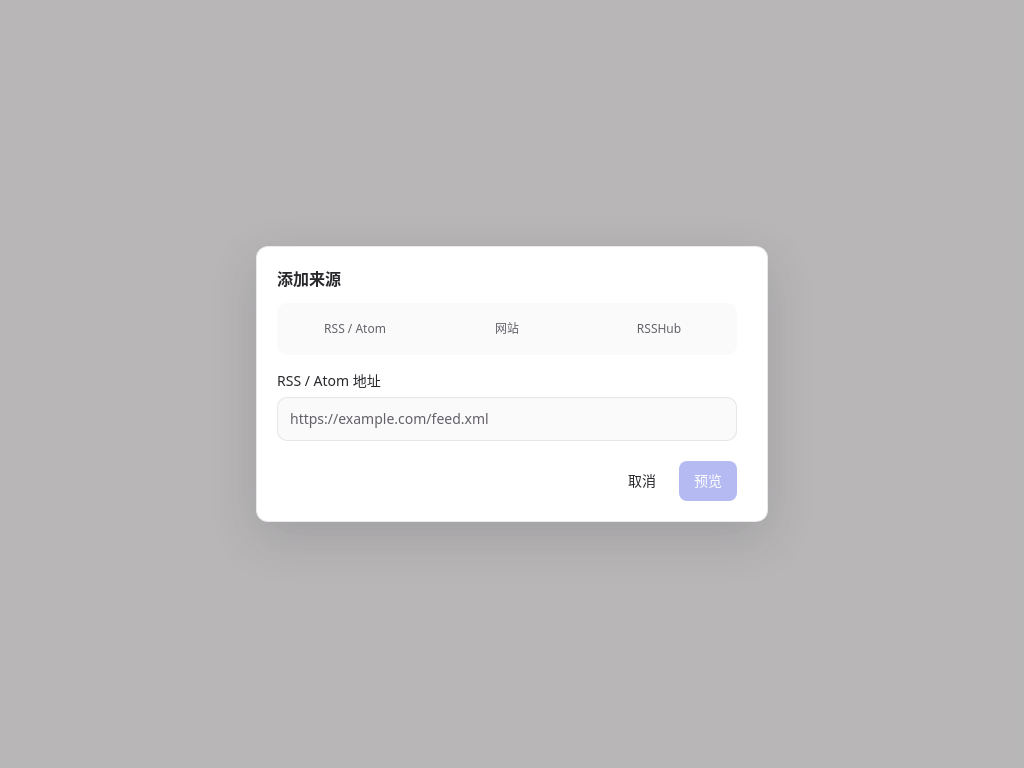
Test: AddSourceDialog — RSSHub › 路由目录加载并渲染标题/描述/路径模板
This screenshot has width=1024, height=768.
Click the tab "RSSHub" at (659, 329), box [585, 307, 733, 351]
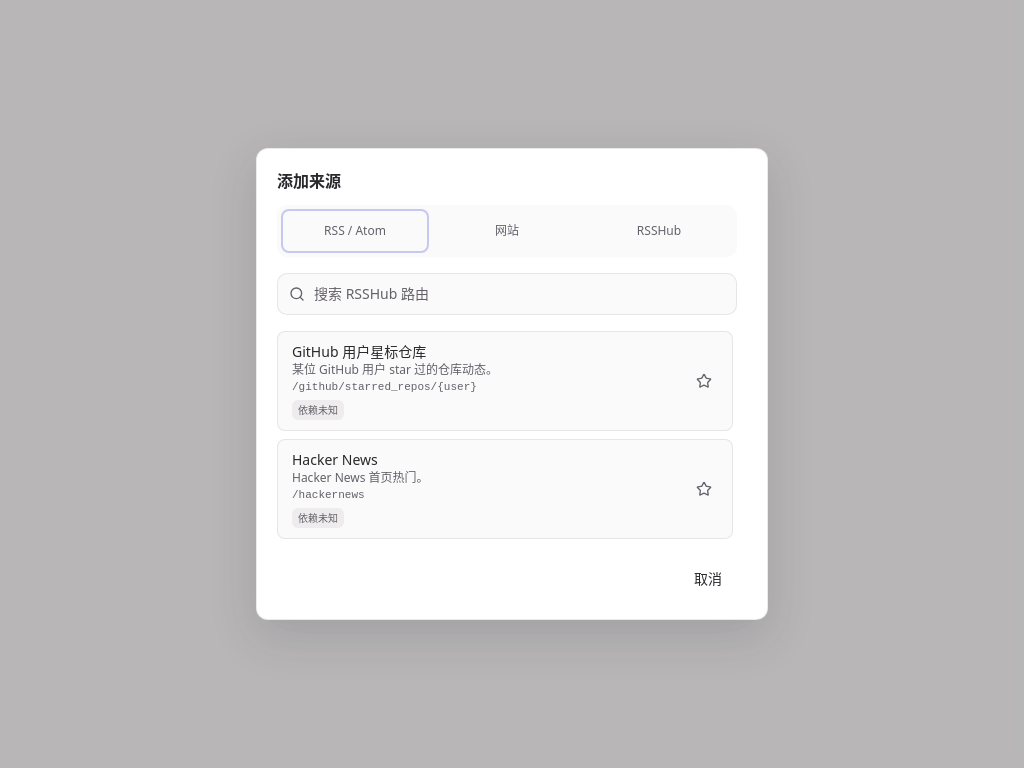
Expected: the text "GitHub 用户星标仓库" is shown, [292, 342, 426, 361]
Expected: the text "Hacker News" is shown, [292, 450, 378, 469]
Expected: the text "/github/starred_repos/{user}" is shown, [292, 381, 477, 393]
